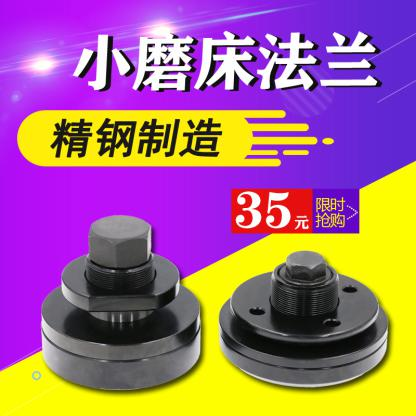FOD: (228, 245, 384, 347)
